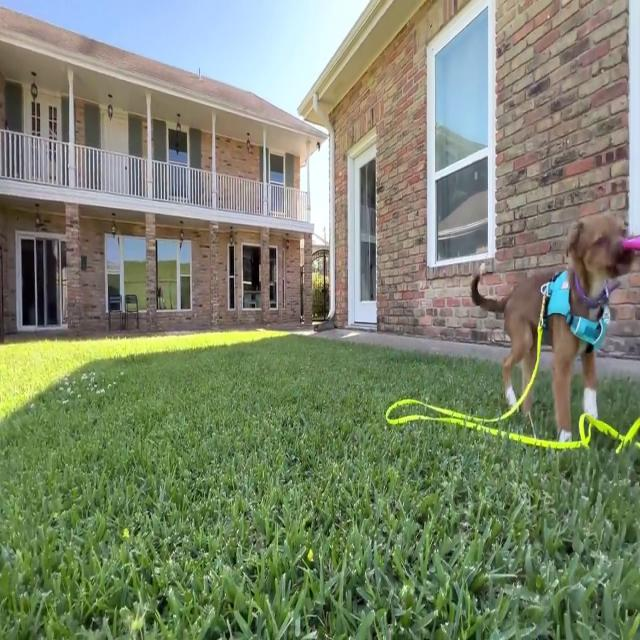Dog: (471, 214, 634, 442)
